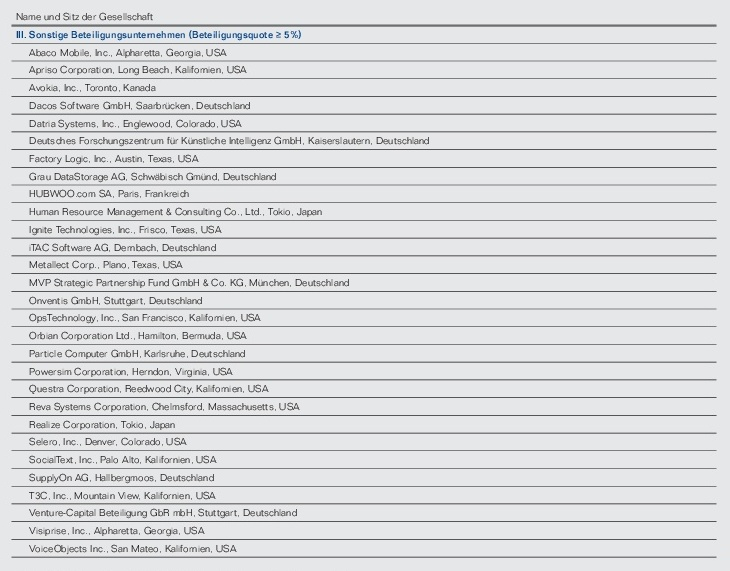table: (0, 0, 730, 571)
